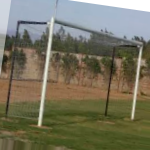goals: (6, 17, 146, 129)
